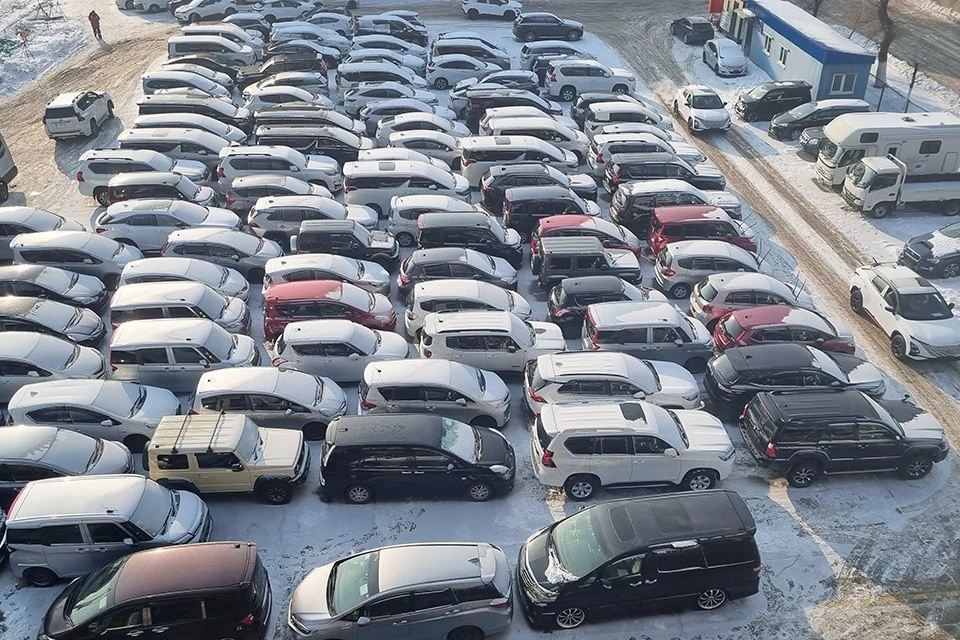Car: (517, 489, 762, 630), (38, 541, 272, 640), (7, 475, 212, 587), (286, 541, 515, 640), (530, 401, 736, 501), (740, 390, 949, 488), (319, 414, 517, 504), (143, 413, 310, 505), (704, 344, 887, 420), (7, 379, 183, 452), (108, 319, 261, 396), (523, 351, 704, 416), (0, 426, 138, 510), (191, 367, 348, 440), (816, 112, 960, 189), (358, 359, 512, 430), (849, 263, 960, 361), (581, 301, 713, 374), (419, 311, 568, 374), (270, 320, 412, 385), (94, 199, 242, 256), (263, 280, 397, 342), (0, 332, 108, 405), (610, 180, 743, 239), (75, 148, 212, 205), (841, 155, 960, 219), (690, 272, 814, 332), (108, 282, 250, 334), (405, 280, 532, 338), (712, 305, 856, 356), (343, 161, 471, 217), (653, 240, 769, 300), (11, 231, 143, 283), (162, 228, 284, 284), (247, 196, 378, 248), (217, 145, 342, 198), (117, 128, 241, 180), (460, 136, 579, 189), (397, 248, 518, 299), (479, 163, 598, 214), (418, 211, 524, 268), (532, 236, 642, 290), (547, 276, 669, 324), (119, 258, 251, 302), (264, 254, 392, 298), (586, 132, 705, 178), (387, 195, 491, 247), (0, 297, 106, 348), (647, 206, 757, 255), (503, 186, 601, 240), (0, 265, 108, 314), (225, 175, 334, 223), (291, 220, 399, 268), (602, 153, 726, 194), (0, 206, 85, 264), (486, 118, 591, 164), (530, 215, 641, 258), (254, 126, 374, 165), (137, 95, 251, 134), (768, 99, 871, 141), (465, 88, 563, 130), (253, 105, 367, 139), (107, 173, 219, 207), (544, 59, 636, 100), (42, 90, 115, 141), (344, 81, 439, 120), (236, 52, 330, 91), (336, 62, 429, 101), (899, 220, 960, 279), (359, 99, 457, 135), (584, 101, 674, 140), (133, 114, 248, 144), (375, 113, 472, 146), (570, 92, 656, 128), (734, 81, 811, 121), (387, 130, 461, 171), (180, 25, 265, 60), (673, 85, 732, 135), (478, 106, 579, 135), (426, 54, 504, 90), (167, 36, 256, 67), (242, 86, 336, 115), (240, 72, 330, 101), (430, 39, 511, 70), (260, 39, 341, 69), (142, 71, 232, 98), (270, 27, 351, 56), (353, 14, 428, 45), (519, 41, 598, 70), (156, 63, 235, 92), (342, 49, 426, 76), (358, 148, 452, 172), (447, 83, 510, 118), (162, 53, 246, 79), (512, 12, 583, 41), (528, 54, 591, 86), (703, 38, 748, 77), (452, 70, 539, 89), (599, 123, 684, 142), (154, 86, 235, 105), (189, 21, 265, 41), (438, 32, 507, 54), (250, 0, 315, 23), (268, 21, 339, 42), (221, 12, 272, 41), (174, 0, 239, 22), (0, 131, 18, 204), (670, 15, 714, 44), (301, 12, 354, 36), (461, 0, 523, 20), (481, 75, 540, 96), (354, 58, 418, 75), (292, 5, 352, 22), (799, 125, 826, 157), (380, 10, 425, 28), (0, 507, 9, 569), (261, 102, 328, 109), (133, 0, 170, 12), (308, 0, 360, 8), (168, 0, 191, 17), (115, 0, 134, 9)
